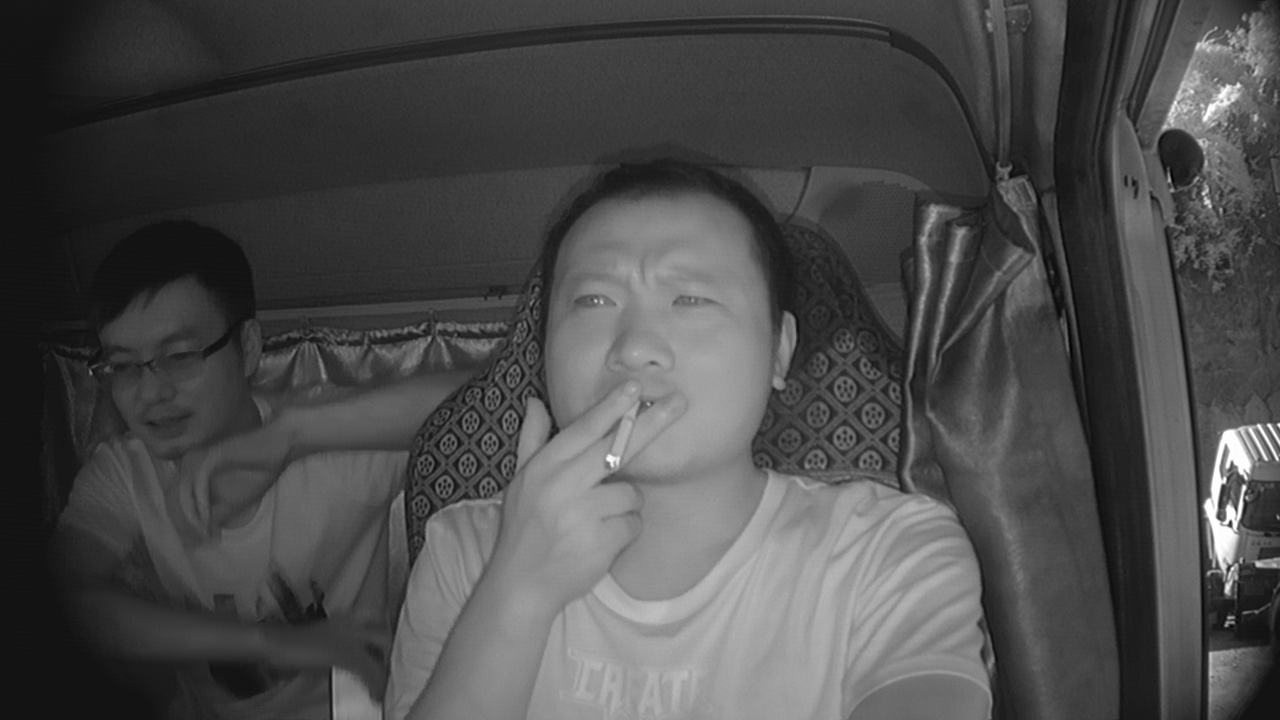hand: (515, 377, 674, 559)
